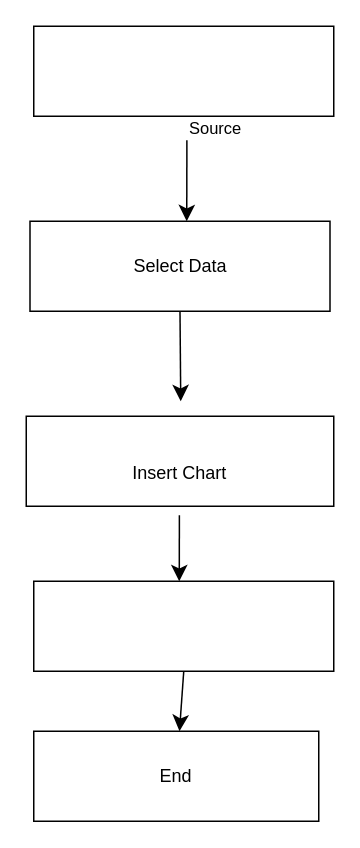
Some shapes in this 360 by 848 pixel diagram are drawn without their labels. The box of each missing label's shape, as (x1, y1, x2, y2) in pixels:
Start: (32, 25, 334, 116)
Summarize Data: (32, 580, 334, 671)
